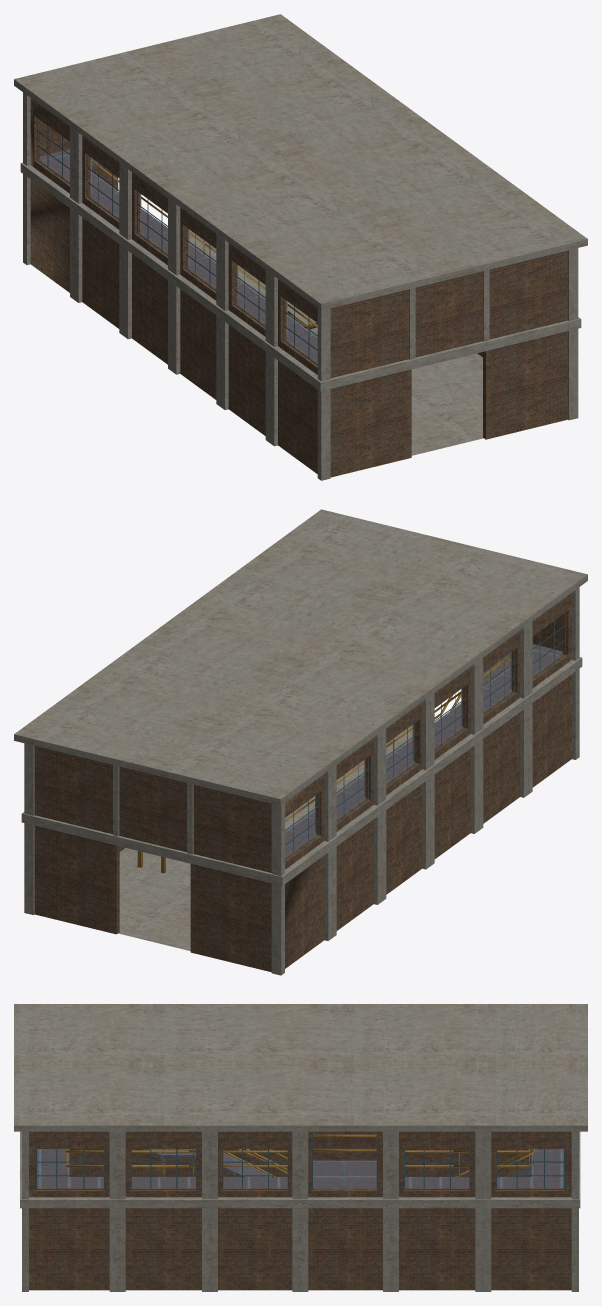
Rendered from Building_Fdc05_2048_lod1.glb.
3 views of the same model, one above another, from view 1: azimuth 30°, elevation 25°; view 2: azimuth 150°, elevation 25°; view 3: azimuth 270°, elevation 25° (orthographic). The views are drawn at different scales.
Parts seen in each view (by area): view 1: xiutz_fdc_05_lod1; view 2: xiutz_fdc_05_lod1; view 3: xiutz_fdc_05_lod1.
Boxes of the visible parts, bbox=[...] form: xiutz_fdc_05_lod1: bbox=[14, 14, 587, 480]; xiutz_fdc_05_lod1: bbox=[14, 509, 587, 975]; xiutz_fdc_05_lod1: bbox=[14, 1004, 587, 1291].
Bounding box in the file's own units: 18.19 × 12.1 × 36.32.
Materials: 1 (1 with a texture image).
